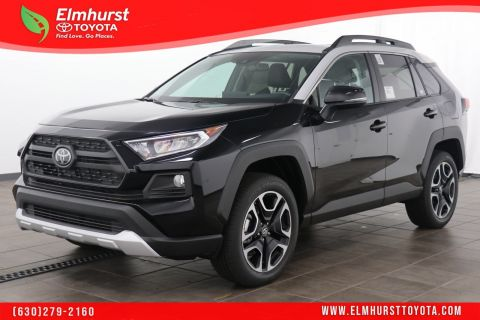Toyota RAV-4: (11, 41, 469, 287)
